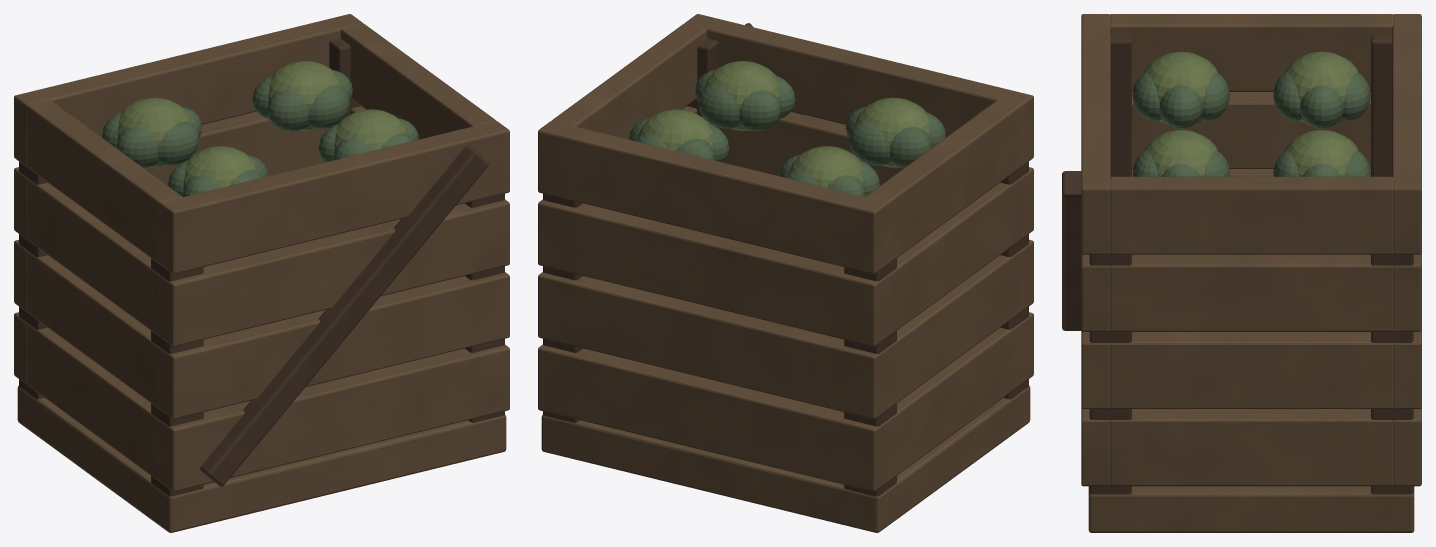
File: Vegetable_Crate.fbx
3 views of the same model, side by side, from view 1: azimuth 30°, elevation 25°; view 2: azimuth 150°, elevation 25°; view 3: azimuth 270°, elevation 25° (orthographic). The views are drawn at different scales.
Parts seen in each view (by area): view 1: Vegetable_Crate.001; view 2: Vegetable_Crate.001; view 3: Vegetable_Crate.001.
Boxes of the visible parts, <box> form: Vegetable_Crate.001: <box>14,14,509,532</box>; Vegetable_Crate.001: <box>538,14,1033,532</box>; Vegetable_Crate.001: <box>1062,14,1421,532</box>.
Size of the model in its own units: 1.12 by 1.04 by 0.9715.
